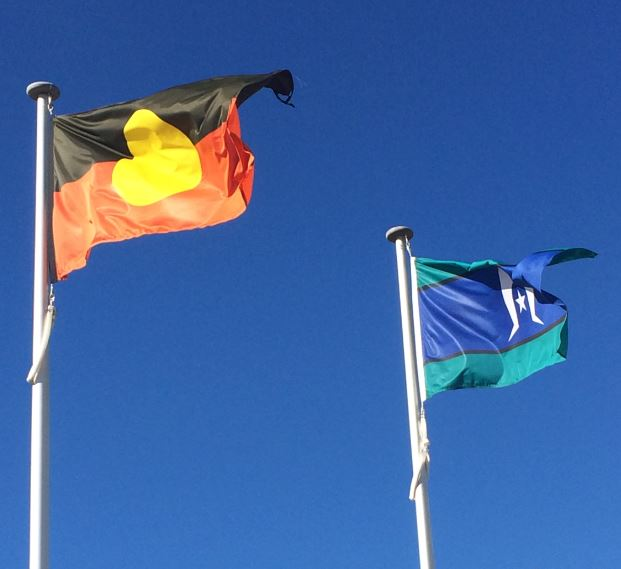aboriginal_flag: (32, 64, 303, 300)
